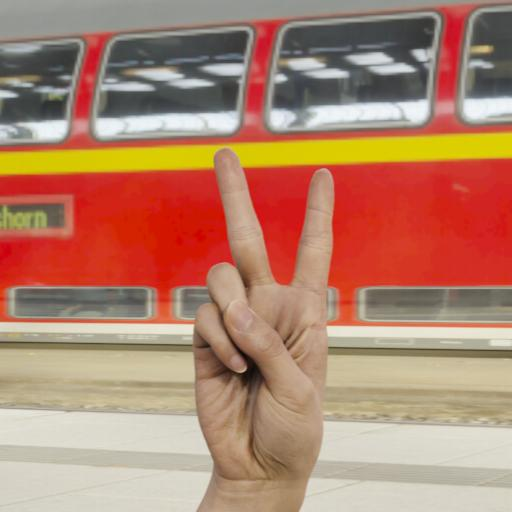V: (176, 140, 382, 480)
